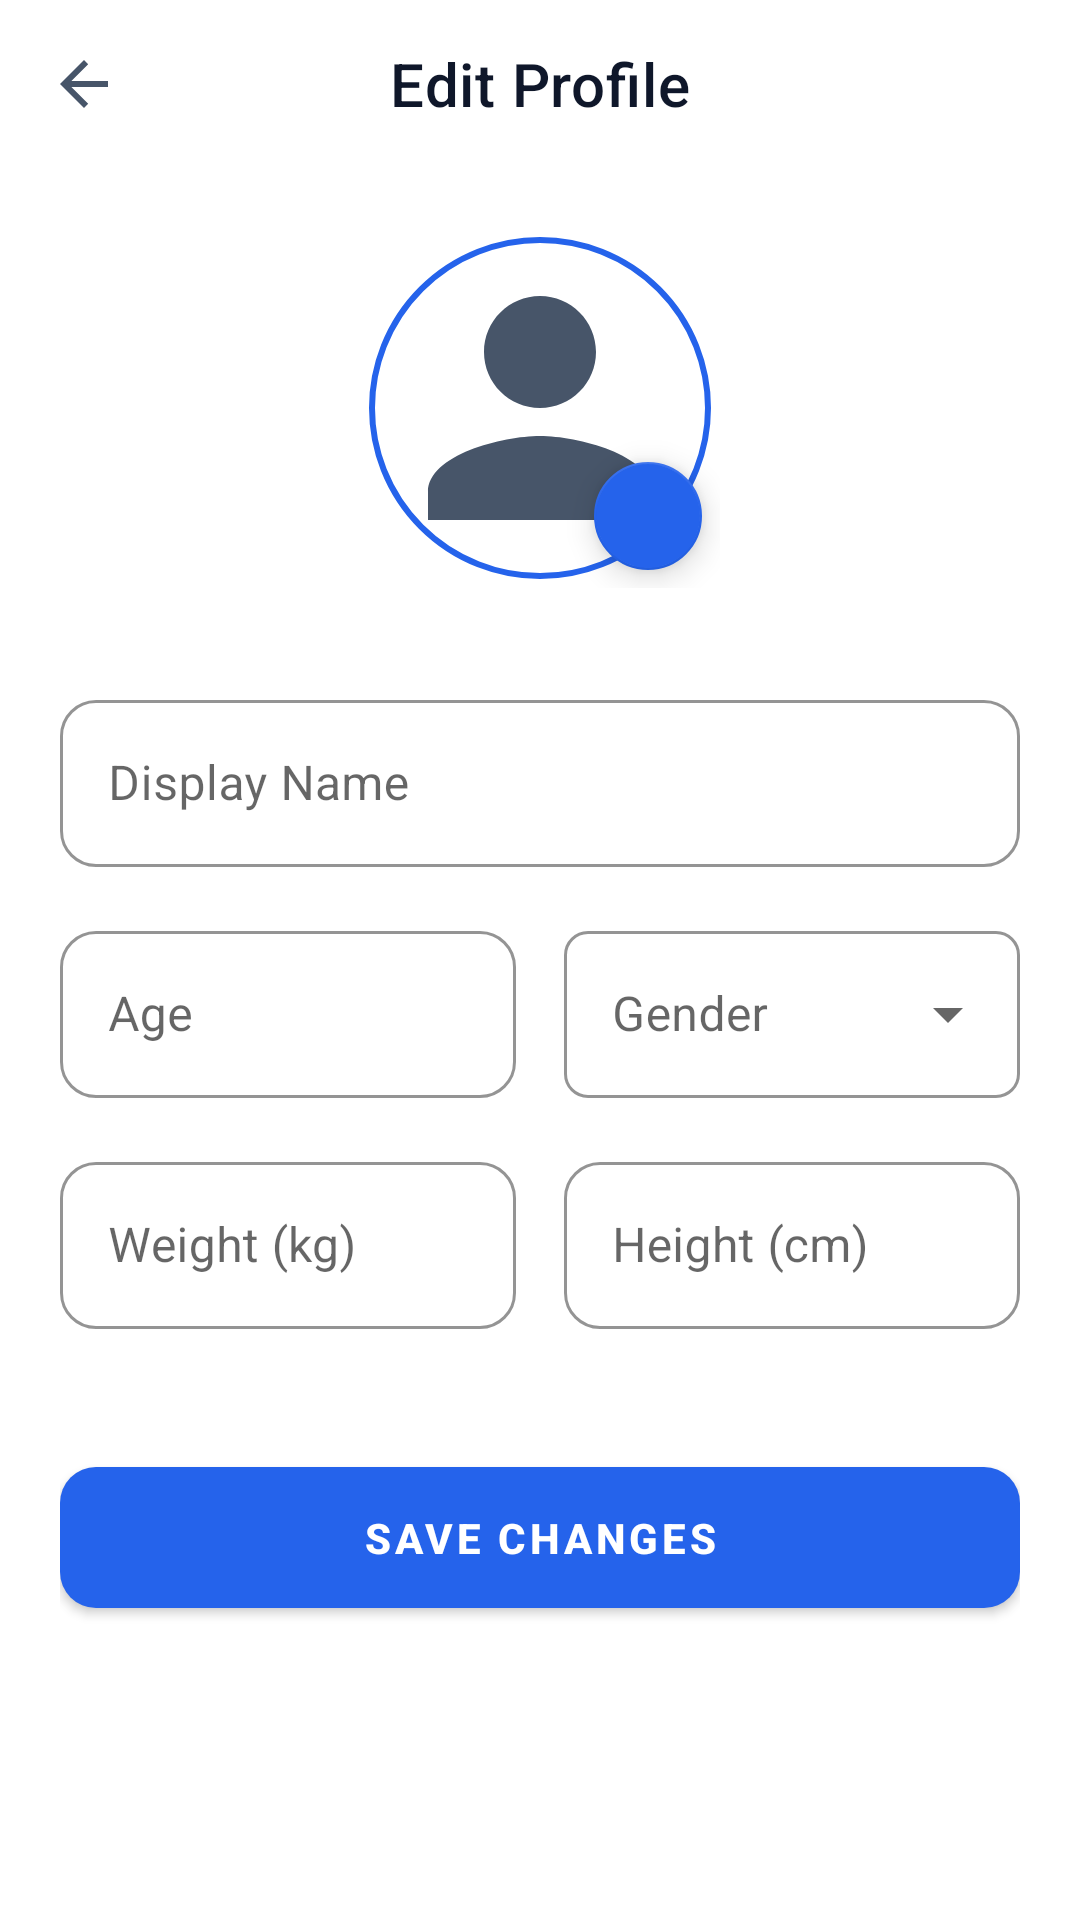

Icons on this 1080w x 1920h Android screen, each with its box as (left=x1, top=y1, right=x2, bottom=y2):
person: (left=369, top=237, right=711, bottom=579)
